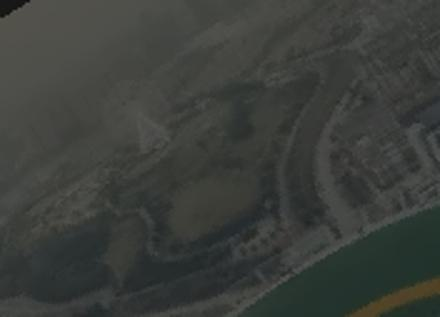Apron: (328, 259, 440, 317)
